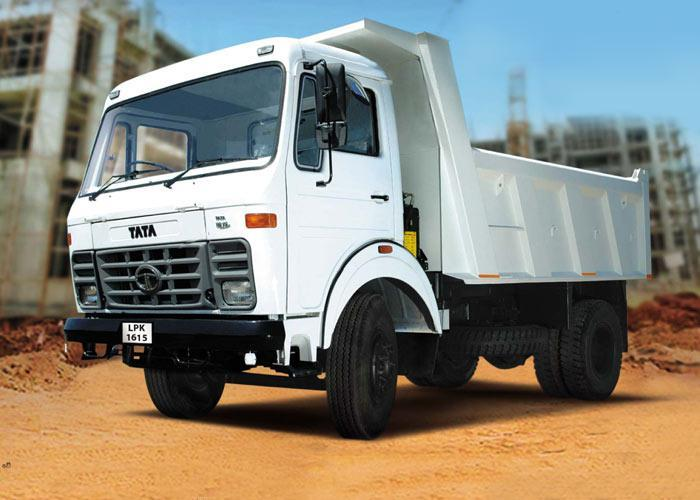truck: (62, 17, 651, 441)
